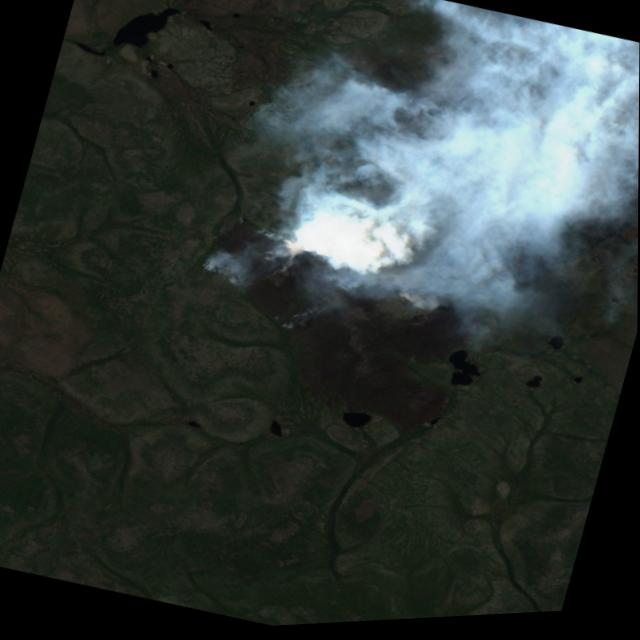fire: (183, 188, 430, 345)
